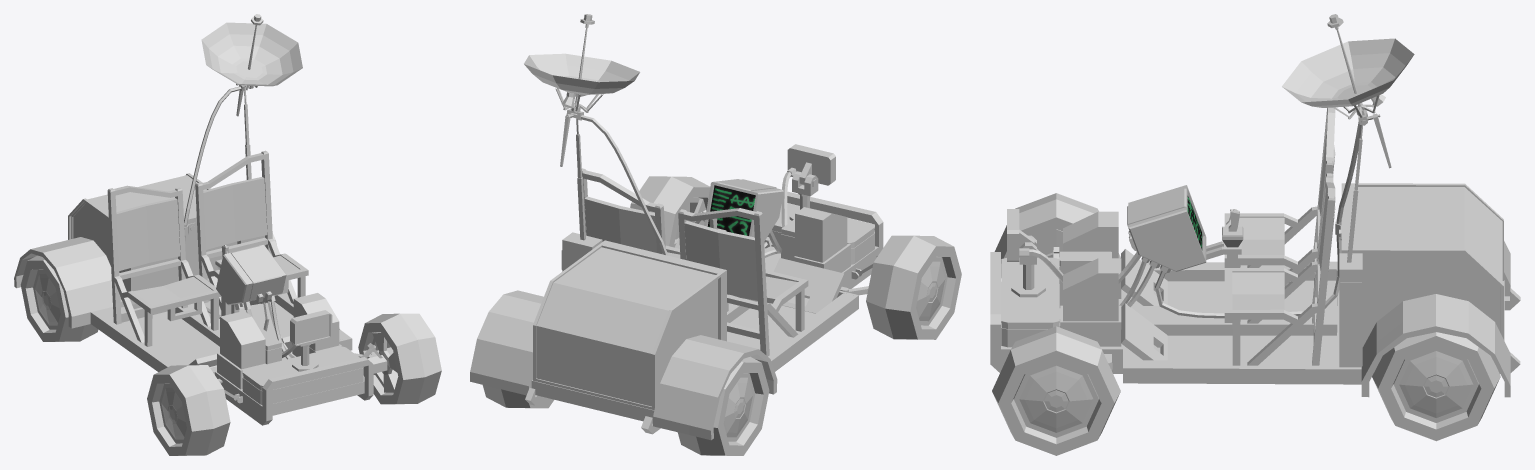
File: carproto.fbx
3 views of the same model, side by side, from view 1: azimuth 30°, elevation 25°; view 2: azimuth 150°, elevation 25°; view 3: azimuth 270°, elevation 25° (orthographic). The views are drawn at different scales.
Parts seen in each view (by area): view 1: Chasis, Front Wheels, Front Filler, Chair Right Shiny, Trunk, Chair Right, Radar Dish, Chair Left, Chair Left Shiny, IBM Terminal, Back Wheels, Wheel Hubs (+5 smaller); view 2: Trunk, Chasis, Front Wheels, Front Filler, Chair Right Shiny, Back Wheels, Chair Right, Radar Dish, Chair Left, Filler Shiny, Wheel Hubs, IBM Terminal (+7 smaller); view 3: Chasis, Trunk, Front Filler, Front Wheels, Radar Dish, Back Wheels, IBM Terminal, Chair Left Shiny, Wheel Hubs, Wheel Hubs Back, Chair Right Shiny, Antenna (+7 smaller).
Part boxes in pixels (x1=…): Chasis: x1=14, y1=233, x2=373, y2=425; Front Wheels: x1=147, y1=313, x2=441, y2=455; Front Filler: x1=217, y1=293, x2=363, y2=404; Chair Right Shiny: x1=107, y1=185, x2=221, y2=346; Trunk: x1=68, y1=173, x2=237, y2=308; Chair Right: x1=116, y1=198, x2=212, y2=306; Radar Dish: x1=201, y1=22, x2=302, y2=86; Chair Left: x1=203, y1=177, x2=299, y2=272; Chair Left Shiny: x1=195, y1=150, x2=308, y2=313; IBM Terminal: x1=216, y1=244, x2=286, y2=305; Back Wheels: x1=20, y1=255, x2=98, y2=341; Wheel Hubs: x1=159, y1=332, x2=398, y2=443; Trunk: x1=533, y1=240, x2=726, y2=409; Chasis: x1=470, y1=191, x2=883, y2=440; Front Wheels: x1=630, y1=176, x2=961, y2=339; Front Filler: x1=767, y1=203, x2=874, y2=272; Chair Right Shiny: x1=678, y1=208, x2=808, y2=356; Back Wheels: x1=482, y1=356, x2=769, y2=455; Chair Right: x1=684, y1=221, x2=797, y2=303; Radar Dish: x1=524, y1=53, x2=639, y2=94; Chair Left: x1=584, y1=196, x2=680, y2=258; Filler Shiny: x1=787, y1=144, x2=835, y2=220; Wheel Hubs: x1=674, y1=197, x2=947, y2=325; IBM Terminal: x1=704, y1=179, x2=783, y2=241; Chasis: x1=990, y1=241, x2=1520, y2=397; Trunk: x1=1335, y1=183, x2=1503, y2=346; Front Filler: x1=1001, y1=211, x2=1121, y2=347; Front Wheels: x1=992, y1=193, x2=1120, y2=455; Radar Dish: x1=1282, y1=38, x2=1414, y2=107; Back Wheels: x1=1372, y1=332, x2=1500, y2=441; IBM Terminal: x1=1127, y1=185, x2=1241, y2=271; Chair Left Shiny: x1=1224, y1=173, x2=1335, y2=365; Wheel Hubs: x1=1013, y1=229, x2=1098, y2=437; Wheel Hubs Back: x1=1393, y1=347, x2=1478, y2=422; Chair Right Shiny: x1=1224, y1=107, x2=1335, y2=303; Antenna: x1=1339, y1=94, x2=1385, y2=367.
Size of the model in its own units: 216 by 264 by 307.
